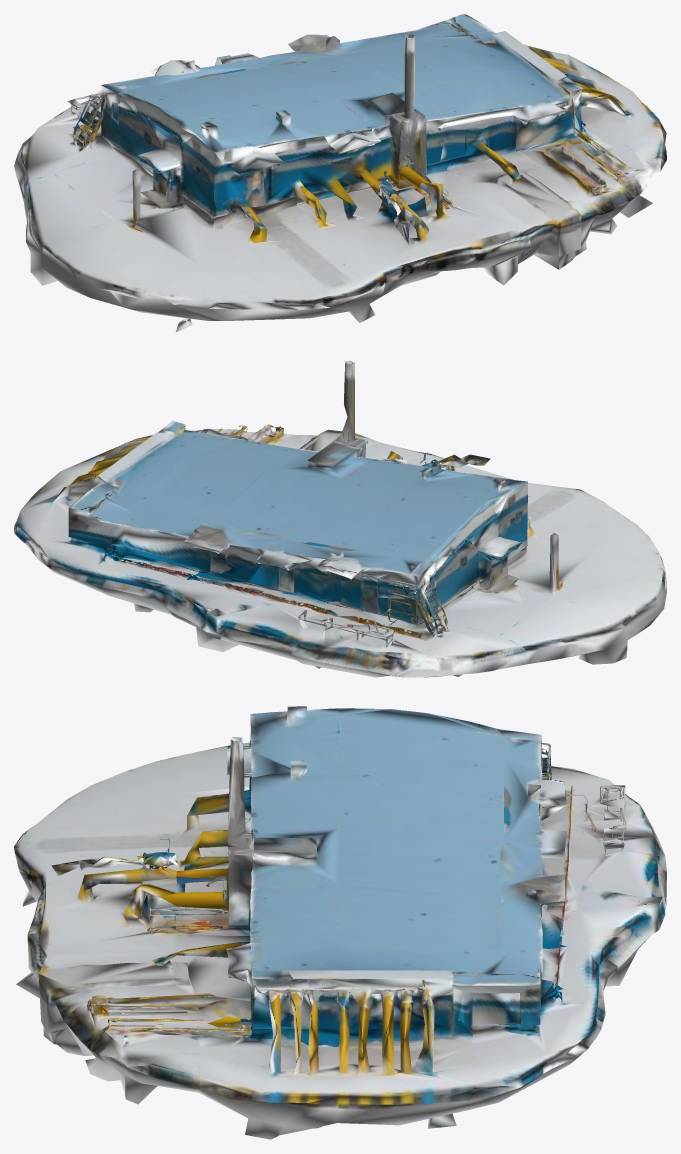
The model's file is construction-01.glb.
3 views of the same model, one above another, from view 1: azimuth 30°, elevation 25°; view 2: azimuth 150°, elevation 25°; view 3: azimuth 270°, elevation 25° (orthographic). The views are drawn at different scales.
Bounding box in the file's own units: 1.91 × 0.6097 × 1.42.
1 material, 1 textured.
